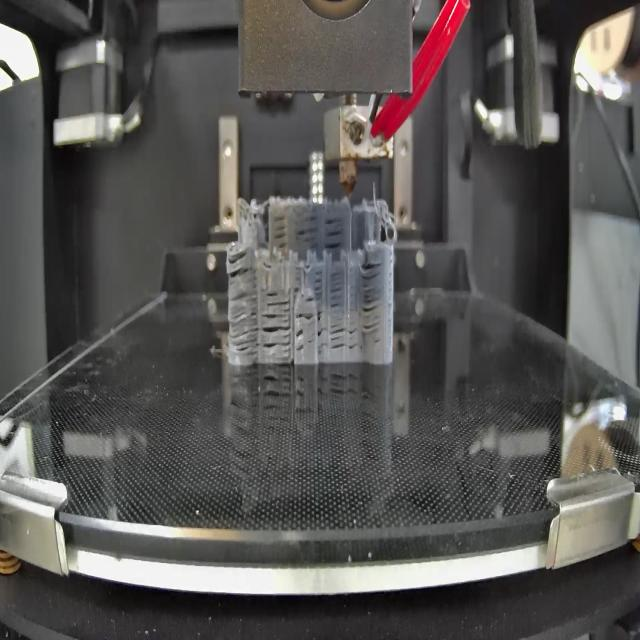cracks: (228, 292, 258, 356), (360, 261, 382, 333), (261, 314, 291, 362), (316, 326, 362, 356), (295, 212, 320, 250), (227, 248, 255, 280), (324, 214, 346, 252), (330, 271, 345, 310), (267, 288, 290, 309), (274, 214, 288, 248), (314, 269, 324, 301), (294, 327, 306, 353), (295, 312, 323, 322), (293, 268, 303, 294), (303, 289, 315, 307)
